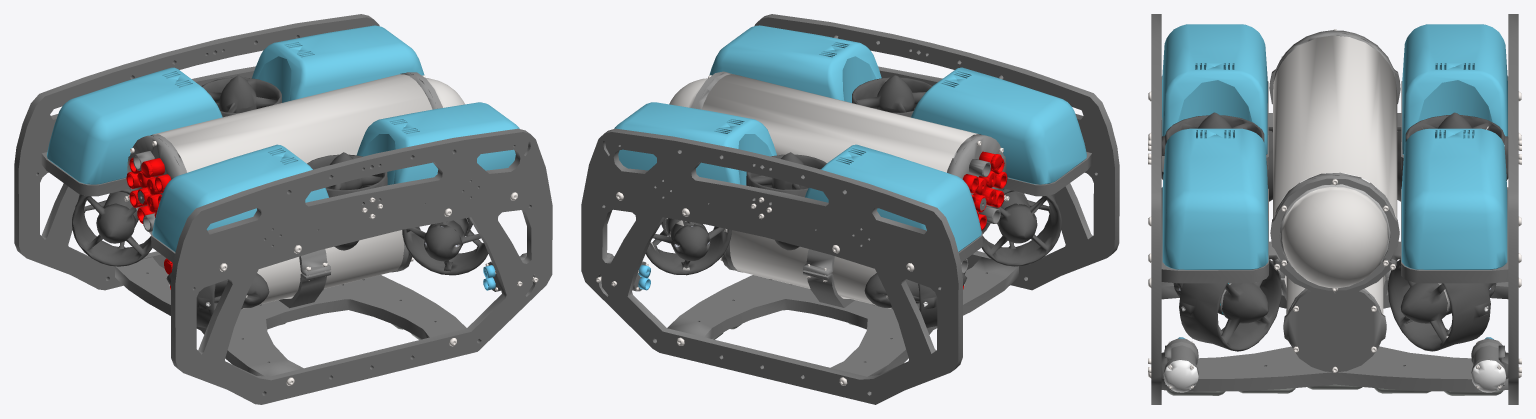
The model's file is bluerov2.glb.
3 views of the same model, side by side, from view 1: azimuth 30°, elevation 25°; view 2: azimuth 150°, elevation 25°; view 3: azimuth 270°, elevation 25° (orthographic). The views are drawn at different scales.
Visible parts, largest first — view 1: BROV2-BASE-mesh_3, BROV2-BASE-mesh_10, BROV2-BASE-mesh_2, BROV2-BASE-mesh_11, BROV2-BASE-mesh_4, BROV2-BASE-mesh_1, BROV2-BASE-mesh, BROV2-BASE-mesh_7; view 2: BROV2-BASE-mesh_3, BROV2-BASE-mesh_10, BROV2-BASE-mesh_2, BROV2-BASE-mesh_11, BROV2-BASE-mesh_1, BROV2-BASE-mesh_4, BROV2-BASE-mesh, BROV2-BASE-mesh_7; view 3: BROV2-BASE-mesh_10, BROV2-BASE-mesh_3, BROV2-BASE-mesh_2, BROV2-BASE-mesh_11, BROV2-BASE-mesh_4, BROV2-BASE-mesh_21, BROV2-BASE-mesh_7, BROV2-BASE-mesh_16, BROV2-BASE-mesh_8.
Part boxes in pixels (x1,y1,x2,y2): BROV2-BASE-mesh_3: (14,14,552,404); BROV2-BASE-mesh_10: (47,25,519,252); BROV2-BASE-mesh_2: (153,74,464,308); BROV2-BASE-mesh_11: (72,75,488,328); BROV2-BASE-mesh_4: (127,72,468,272); BROV2-BASE-mesh_1: (133,151,330,308); BROV2-BASE-mesh: (126,158,172,289); BROV2-BASE-mesh_7: (124,75,538,385); BROV2-BASE-mesh_3: (581,14,1119,404); BROV2-BASE-mesh_10: (614,25,1086,251); BROV2-BASE-mesh_2: (651,74,978,308); BROV2-BASE-mesh_11: (636,75,1061,327); BROV2-BASE-mesh_1: (803,159,1000,307); BROV2-BASE-mesh_4: (665,71,1006,272); BROV2-BASE-mesh: (962,151,1007,289); BROV2-BASE-mesh_7: (596,75,1009,385); BROV2-BASE-mesh_10: (1162,24,1507,269); BROV2-BASE-mesh_3: (1151,14,1518,404); BROV2-BASE-mesh_2: (1162,35,1504,338); BROV2-BASE-mesh_11: (1161,112,1508,351); BROV2-BASE-mesh_4: (1220,30,1449,314); BROV2-BASE-mesh_21: (1163,360,1506,392); BROV2-BASE-mesh_7: (1148,29,1521,388); BROV2-BASE-mesh_16: (1166,384,1503,395); BROV2-BASE-mesh_8: (1280,184,1390,262).
Bounding box in the file's own units: 18 × 9.99 × 13.54.
